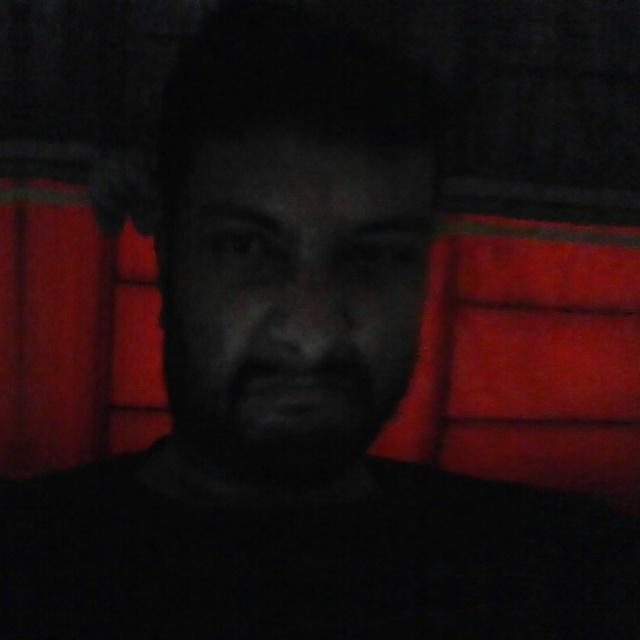Disgust: (117, 96, 461, 508)
